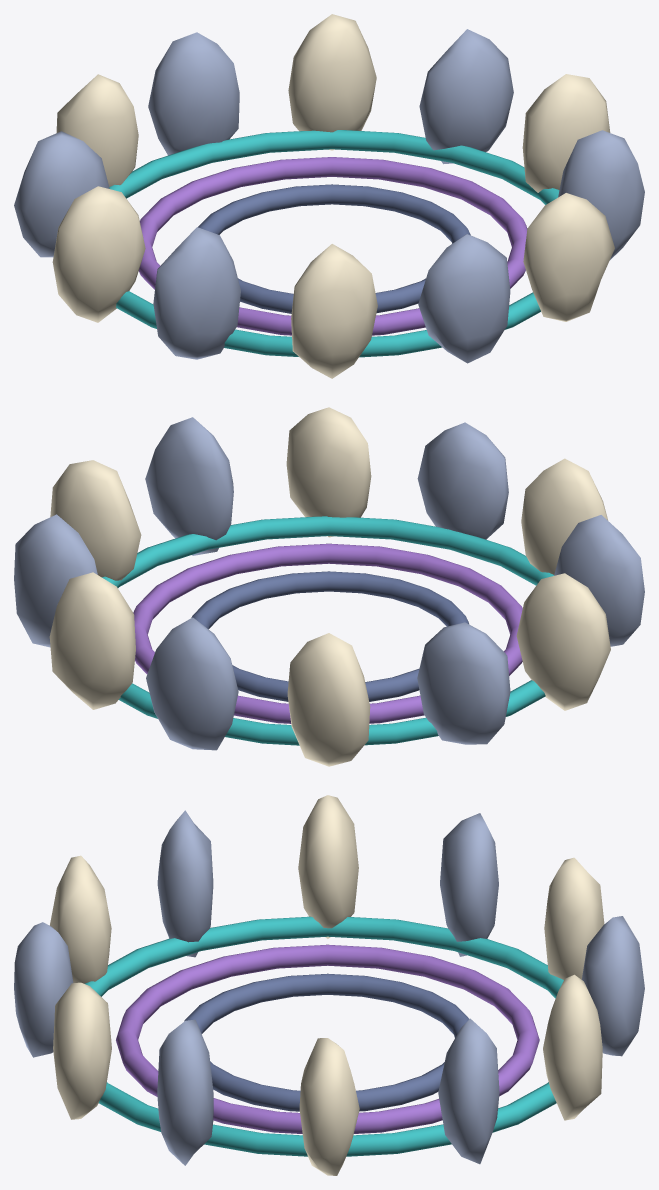
Rendered from r049_dungeon_combat_arena_overall_dungeon_arena.glb.
3 renders of one model, top to bottom at view 1: azimuth 30°, elevation 25°; view 2: azimuth 150°, elevation 25°; view 3: azimuth 270°, elevation 25°, orthographic. The views are drawn at different scales.
Visible parts, largest first — view 1: r049_dungeon_combat_arena_overall_dungeon_arena.001; view 2: r049_dungeon_combat_arena_overall_dungeon_arena.001; view 3: r049_dungeon_combat_arena_overall_dungeon_arena.001.
Boxes of the visible parts, bbox=[...] form: r049_dungeon_combat_arena_overall_dungeon_arena.001: bbox=[14, 14, 644, 378]; r049_dungeon_combat_arena_overall_dungeon_arena.001: bbox=[14, 407, 644, 766]; r049_dungeon_combat_arena_overall_dungeon_arena.001: bbox=[14, 795, 644, 1175].
Size of the model in its own units: 14.32 by 3.49 by 13.51.
